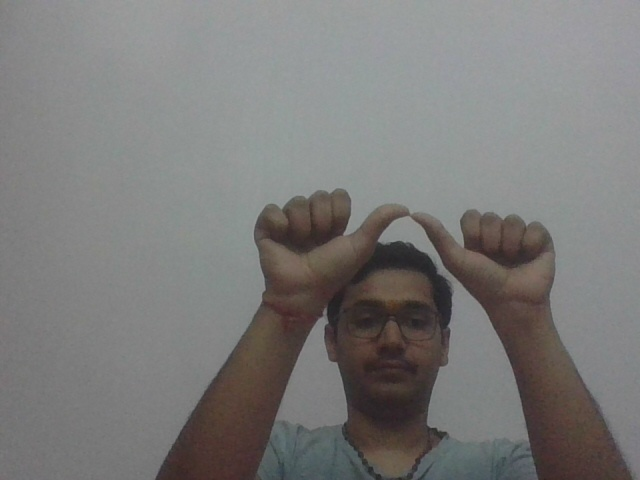A: (241, 187, 587, 293)
